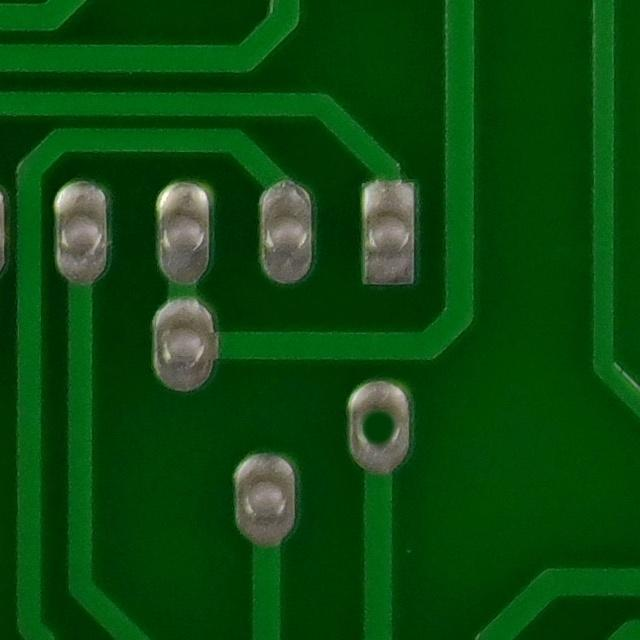missing_hole: (336, 388, 426, 469)
